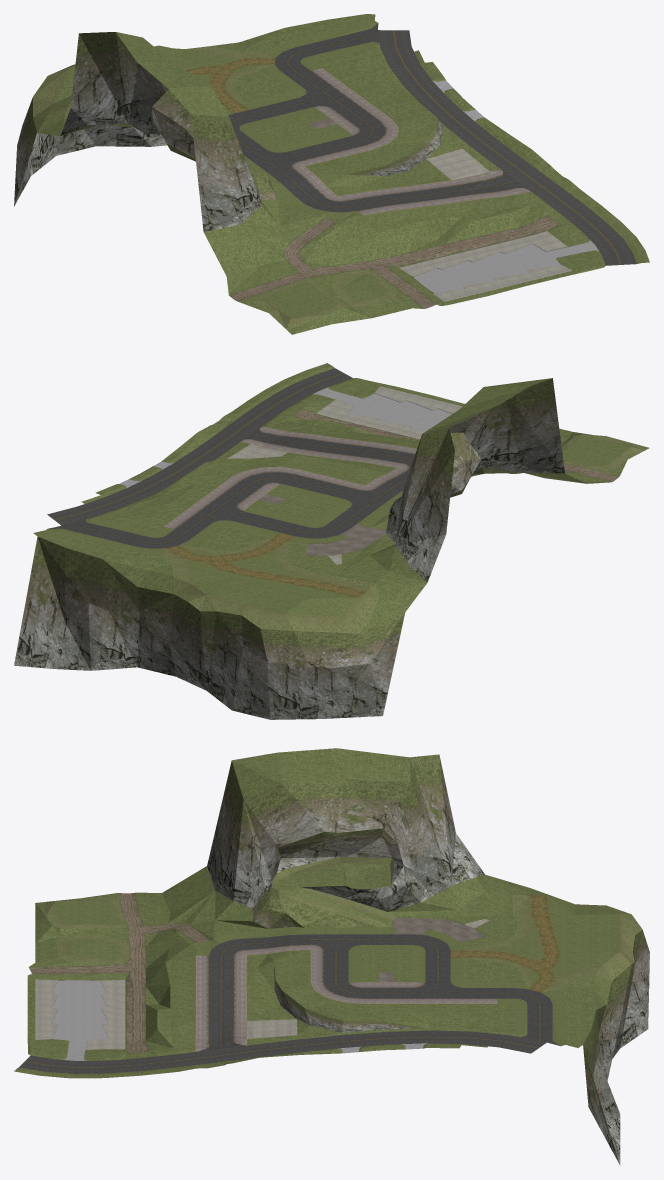
Rendered from sw_bit_03.obj.
3 views of the same model, one above another, from view 1: azimuth 30°, elevation 25°; view 2: azimuth 150°, elevation 25°; view 3: azimuth 270°, elevation 25° (orthographic). The views are drawn at different scales.
Visible parts, largest first — view 1: sw_bit_03; view 2: sw_bit_03; view 3: sw_bit_03.
Part boxes in pixels (x1,y1,x2,y2): sw_bit_03: (14,14,649,334); sw_bit_03: (14,363,649,719); sw_bit_03: (14,748,649,1165).
Size of the model in its own units: 169 by 107 by 250.
Materials: 16 (16 with a texture image).
